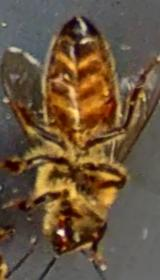varroa_mite: (96, 96, 116, 122)
